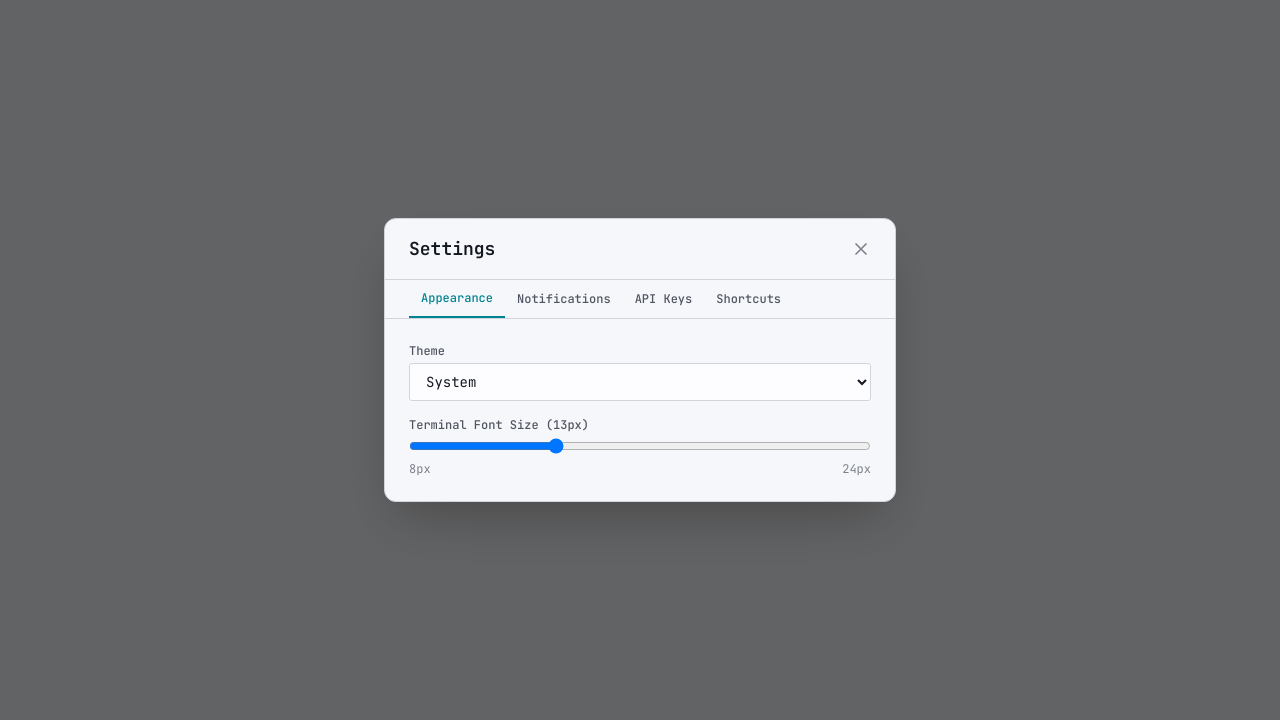
SettingsModal › switches to Notifications tab
This screenshot has width=1280, height=720.
Click the button "Notifications" at (564, 299), box [505,280,623,318]
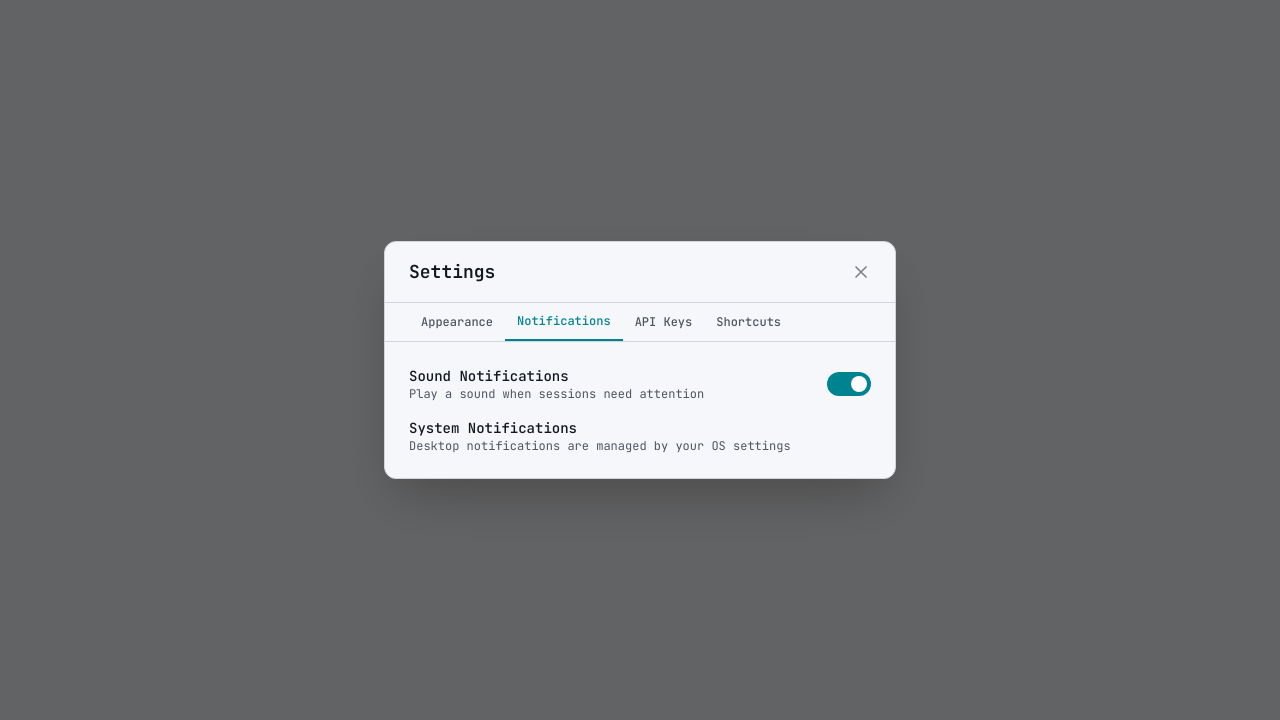
Check: the text "Sound Notifications" is shown, box [409,367,569,385]
